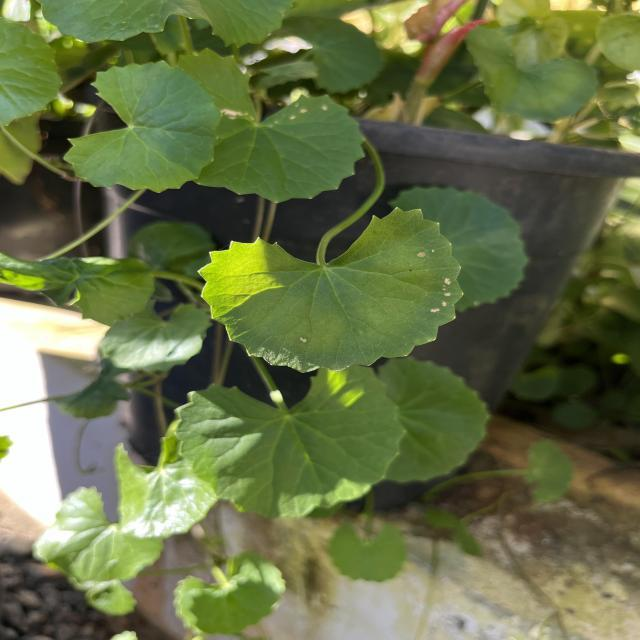Centella asiatica: (193, 204, 468, 376), (60, 57, 225, 196)
